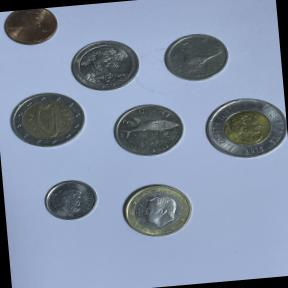coin: (197, 88, 288, 166), (2, 86, 91, 154), (116, 176, 198, 244), (108, 98, 190, 162), (66, 35, 145, 95), (37, 173, 102, 229), (0, 7, 62, 50)
